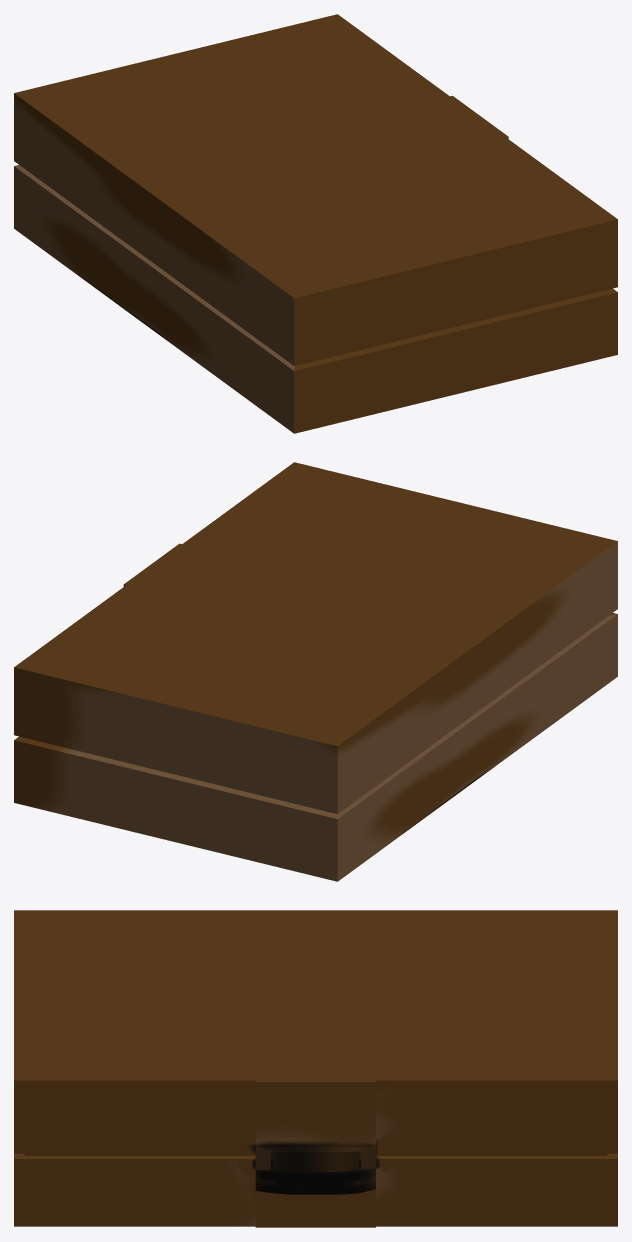
The model's file is Brown Suitcase.glb.
The picture shows the model from 3 angles, top to bottom: view 1: azimuth 30°, elevation 25°; view 2: azimuth 150°, elevation 25°; view 3: azimuth 270°, elevation 25°; orthographic projection. The views are drawn at different scales.
Parts seen in each view (by area): view 1: Cube; view 2: Cube; view 3: Cube.
Part boxes in pixels (x1,y1,x2,y2): Cube: (14, 14, 617, 433); Cube: (14, 462, 617, 881); Cube: (14, 910, 617, 1227).
Size of the model in its own units: 2.33 by 0.8 by 3.
Materials: 1 (1 with a texture image).
